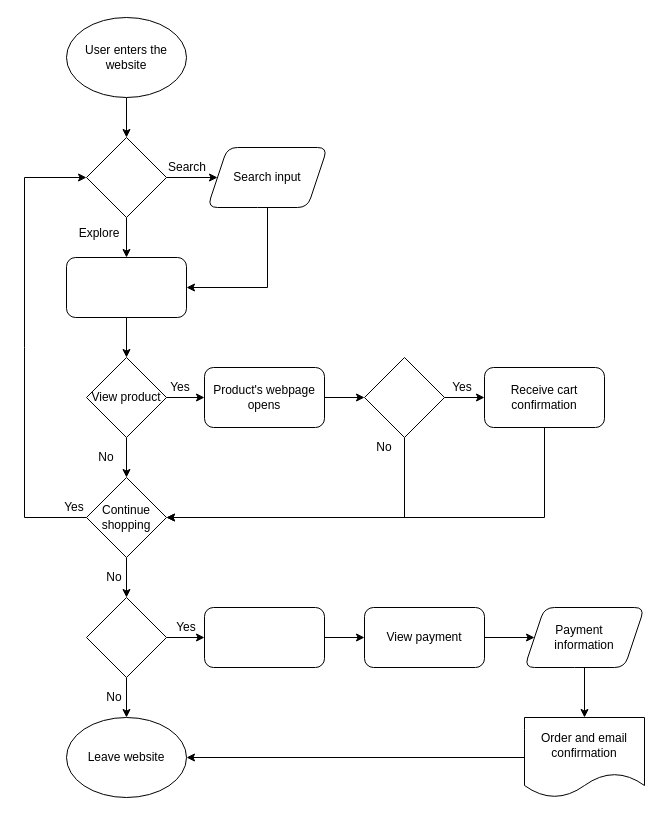
Some shapes in this 662 by 815 pixel diagram are drawn without their labels. Here are the shapes that lost their labels. From the top down, the box of each, then its label:
(86, 136, 166, 218): Products
(66, 256, 186, 318): User begins looking over the products
(364, 356, 444, 438): Add item to cart
(86, 596, 166, 678): Checkout
(204, 606, 324, 668): View cart
